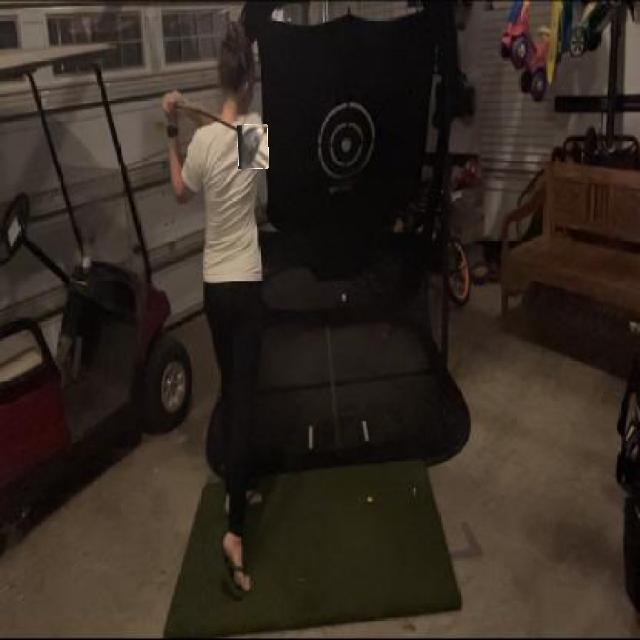club head: (238, 125, 268, 169)
